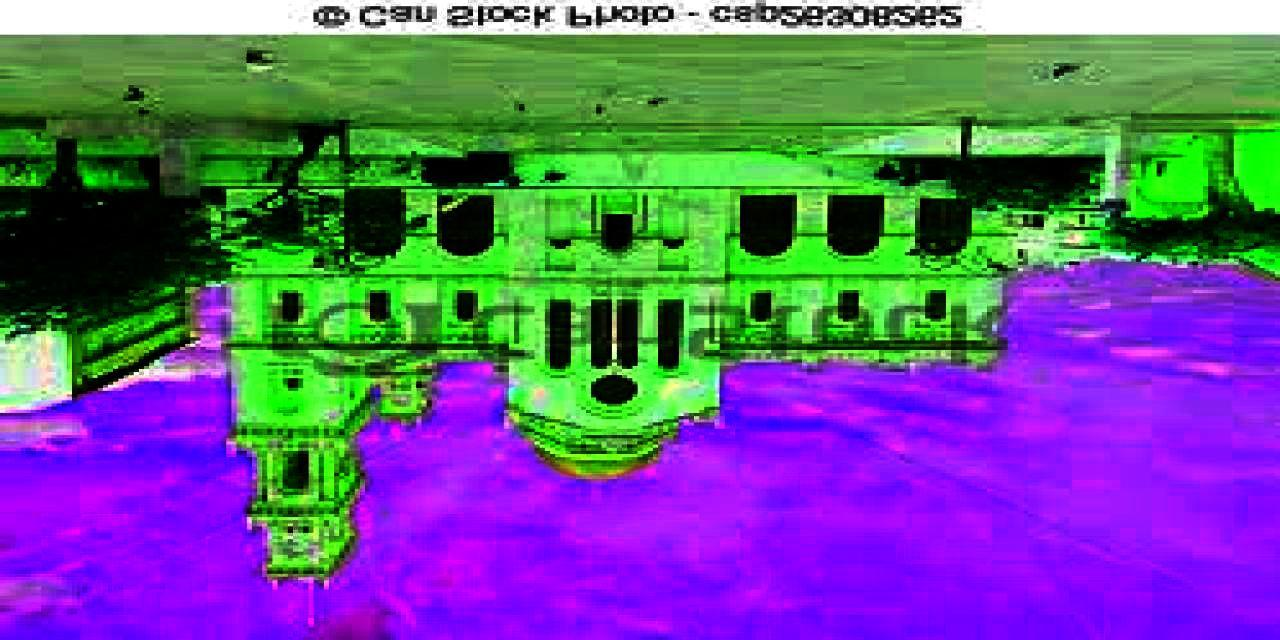Agios Minas: (201, 161, 1023, 615)
